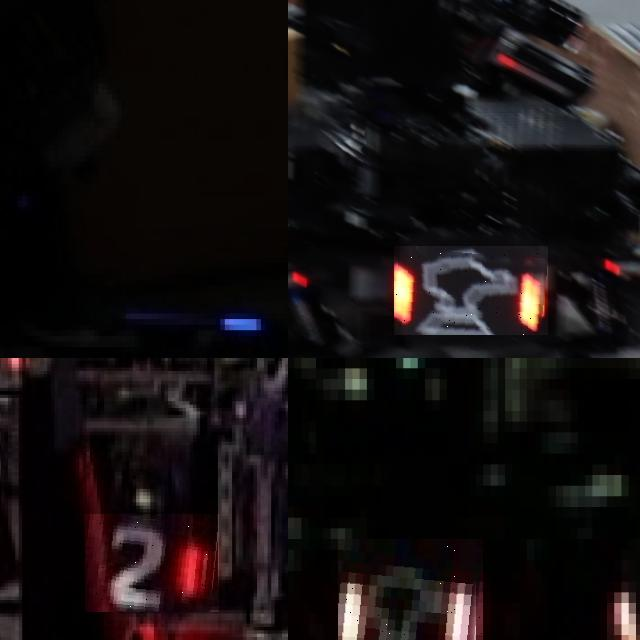R2: (85, 514, 219, 612)
Rs: (337, 538, 483, 640), (394, 246, 548, 335)
